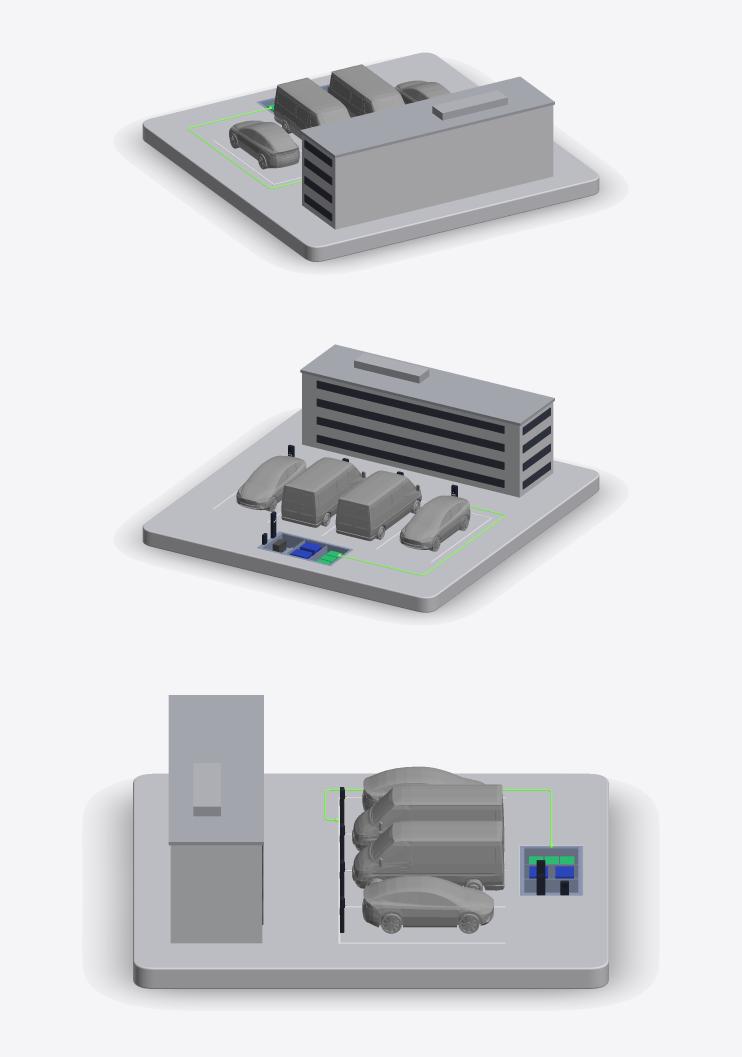
File: sett-scroll-doelgroep-werkgever.glb
The picture shows the model from 3 angles, top to bottom: view 1: azimuth 30°, elevation 25°; view 2: azimuth 150°, elevation 25°; view 3: azimuth 270°, elevation 25°; orthographic projection. The views are drawn at different scales.
Parts seen in each view (by area): view 1: building, object 37, van (×2), contact_shadow, car (×2); view 2: object 37, building, van (×2), car (×2), contact_shadow, BAK_met_RIBS; view 3: object 37, building, van (×2), contact_shadow, car (×2), BAK_met_RIBS, schot.
Part boxes in pixels (left/top/right/bottom): building: left=300, top=76, right=554, bottom=229; object 37: left=142, top=52, right=599, bottom=261; van (×2): left=274, top=64, right=404, bottom=139; contact_shadow: left=137, top=134, right=604, bottom=264; car (×2): left=229, top=80, right=450, bottom=169; object 37: left=142, top=409, right=599, bottom=612; building: left=300, top=344, right=554, bottom=497; van (×2): left=281, top=457, right=421, bottom=541; car (×2): left=236, top=455, right=470, bottom=551; contact_shadow: left=137, top=485, right=604, bottom=614; BAK_met_RIBS: left=258, top=531, right=352, bottom=565; object 37: left=133, top=773, right=608, bottom=988; building: left=168, top=695, right=263, bottom=943; van (×2): left=352, top=784, right=504, bottom=890; contact_shadow: left=112, top=796, right=629, bottom=997; car (×2): left=362, top=766, right=493, bottom=933; BAK_met_RIBS: left=520, top=846, right=579, bottom=895; schot: left=524, top=878, right=578, bottom=892.
Size of the model in its own units: 2493 by 514 by 2493.
Materials: 17 (1 with a texture image).
